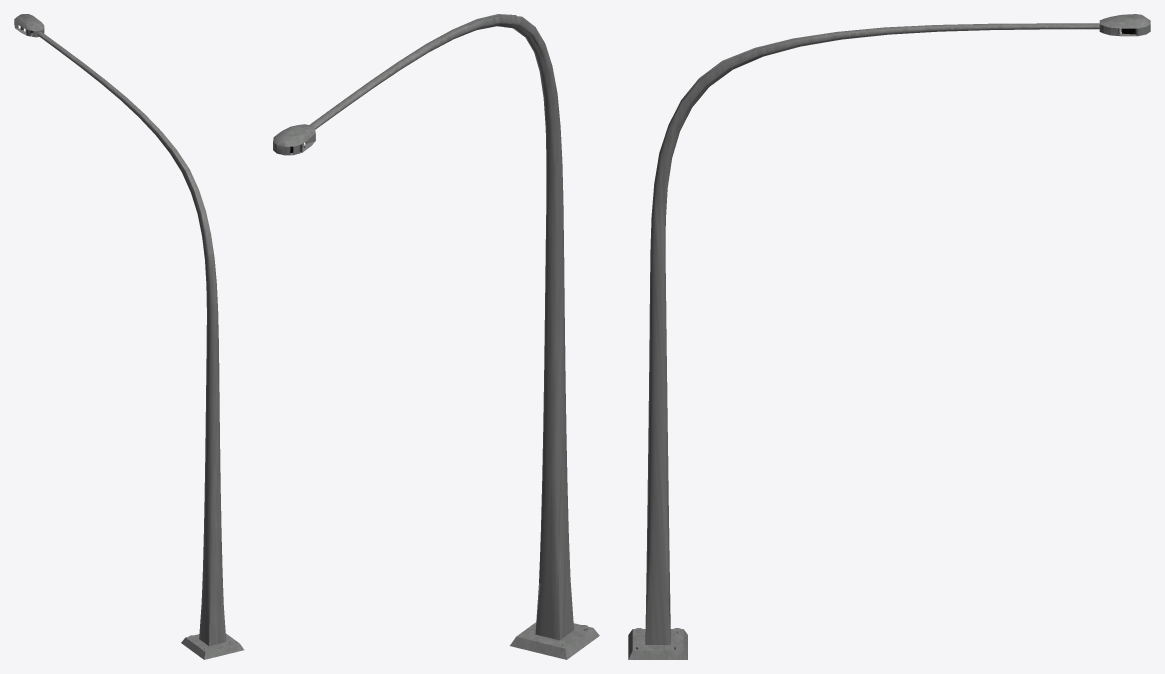
File: prop_static_55602.fbx
3 renders of one model, left to right at view 1: azimuth 30°, elevation 25°; view 2: azimuth 150°, elevation 25°; view 3: azimuth 270°, elevation 25°, orthographic. The views are drawn at different scales.
Parts seen in each view (by area): view 1: prop_static_55602; view 2: prop_static_55602; view 3: prop_static_55602.
Boxes of the visible parts, x1,y1,x2,y2 form: prop_static_55602: (14, 14, 244, 659); prop_static_55602: (273, 14, 599, 659); prop_static_55602: (628, 14, 1150, 659).
Size of the model in its own units: 2800 by 32700 by 24600.
